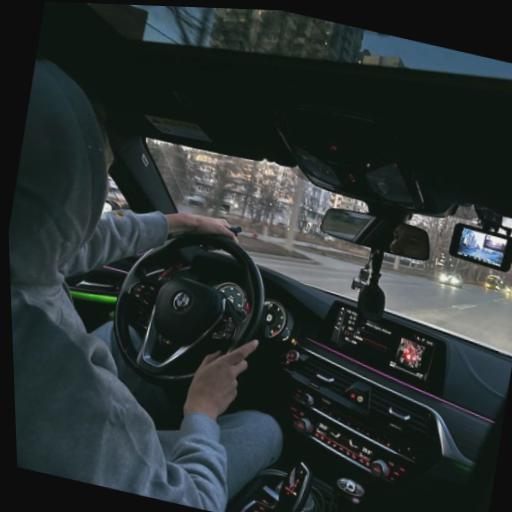Hands-on-the-Wheel: (166, 308, 281, 432), (151, 190, 272, 285)
